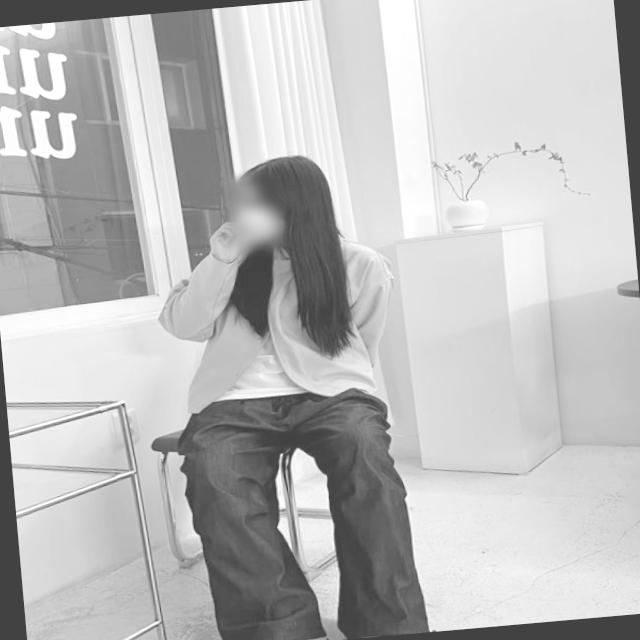denimpants: (176, 374, 432, 640)
jacket: (160, 231, 408, 432)
